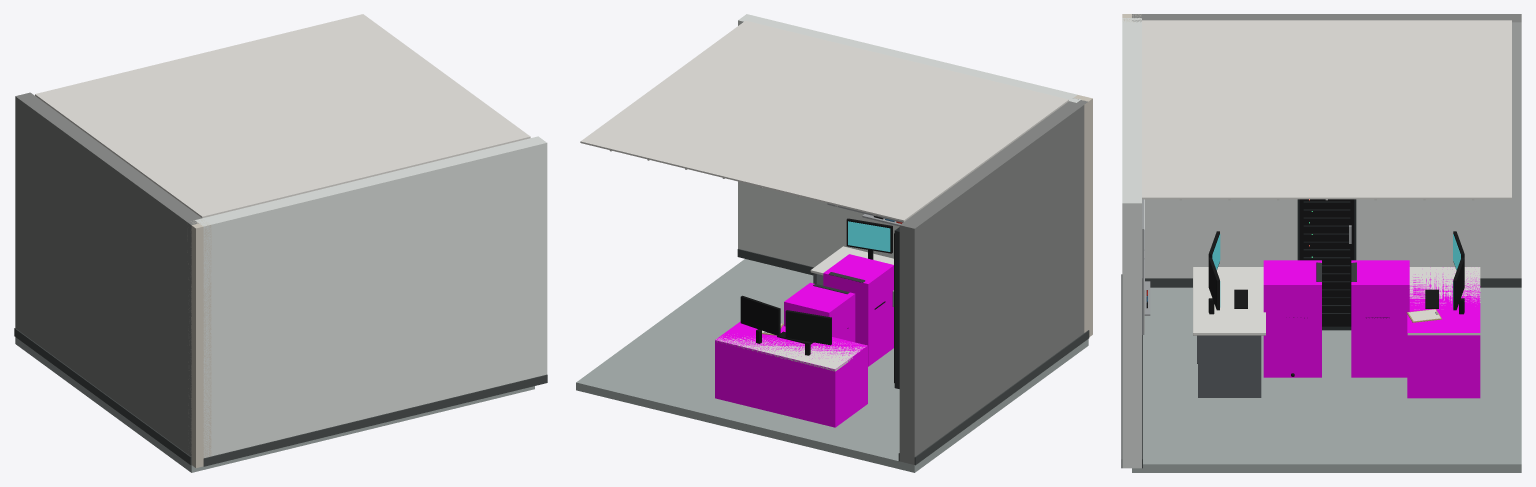
The model's file is ENV_DataAnalysisOffice.glb.
The picture shows the model from 3 angles, left to right: view 1: azimuth 30°, elevation 25°; view 2: azimuth 150°, elevation 25°; view 3: azimuth 270°, elevation 25°; orthographic projection. The views are drawn at different scales.
Parts seen in each view (by area): view 1: ENV_DataAnalysisOffice_Architecture, ENV_DataAnalysisOffice_Ceiling, ENV_DataAnalysisOffice_Posts; view 2: ENV_DataAnalysisOffice_Architecture, ENV_DataAnalysisOffice_Ceiling, PROP_Desk_Workstation_Dual_COL-colonly.001, PROP_Desk_Workstation_Dual_Mesh.001, PROP_Chair_Office_COL-colonly.003, PROP_Chair_Office_COL-colonly.004, ENV_DataAnalysisOffice_Posts, PROP_Desk_Workstation_Dual_Mesh, PROP_Desk_Workstation_Dual_Screens, PROP_Rack_Server_42U_Mesh; view 3: ENV_DataAnalysisOffice_Architecture, ENV_DataAnalysisOffice_Ceiling, PROP_Desk_Workstation_Dual_Mesh, PROP_Desk_Workstation_Dual_COL-colonly.001, PROP_Chair_Office_COL-colonly.003, PROP_Chair_Office_COL-colonly.004, PROP_Rack_Server_42U_Mesh, PROP_Desk_Workstation_Dual_Mesh.001, PROP_Whiteboard_Wall_Mesh.
Boxes of the visible parts, box(x1,y1,x2,y2) form: ENV_DataAnalysisOffice_Architecture: box(14, 92, 547, 472); ENV_DataAnalysisOffice_Ceiling: box(35, 14, 530, 218); ENV_DataAnalysisOffice_Posts: box(187, 219, 211, 467); ENV_DataAnalysisOffice_Architecture: box(576, 14, 1089, 472); ENV_DataAnalysisOffice_Ceiling: box(580, 20, 1068, 221); PROP_Desk_Workstation_Dual_COL-colonly.001: box(715, 321, 867, 427); PROP_Desk_Workstation_Dual_Mesh.001: box(715, 295, 866, 371); PROP_Chair_Office_COL-colonly.003: box(823, 254, 893, 366); PROP_Chair_Office_COL-colonly.004: box(784, 282, 855, 342); ENV_DataAnalysisOffice_Posts: box(1074, 95, 1092, 336); PROP_Desk_Workstation_Dual_Mesh: box(810, 218, 893, 290); PROP_Desk_Workstation_Dual_Screens: box(848, 221, 890, 251); PROP_Rack_Server_42U_Mesh: box(892, 227, 899, 388); ENV_DataAnalysisOffice_Architecture: box(1121, 14, 1521, 472); ENV_DataAnalysisOffice_Ceiling: box(1142, 20, 1511, 200); PROP_Desk_Workstation_Dual_Mesh: box(1193, 231, 1265, 397); PROP_Desk_Workstation_Dual_COL-colonly.001: box(1407, 267, 1480, 398); PROP_Chair_Office_COL-colonly.003: box(1263, 260, 1321, 377); PROP_Chair_Office_COL-colonly.004: box(1351, 260, 1409, 377); PROP_Rack_Server_42U_Mesh: box(1297, 199, 1356, 330); PROP_Desk_Workstation_Dual_Mesh.001: box(1407, 231, 1480, 335); PROP_Whiteboard_Wall_Mesh: box(1142, 199, 1150, 334).
Size of what is drawn, in the model's own units: 4.61 by 3.12 by 4.11.
